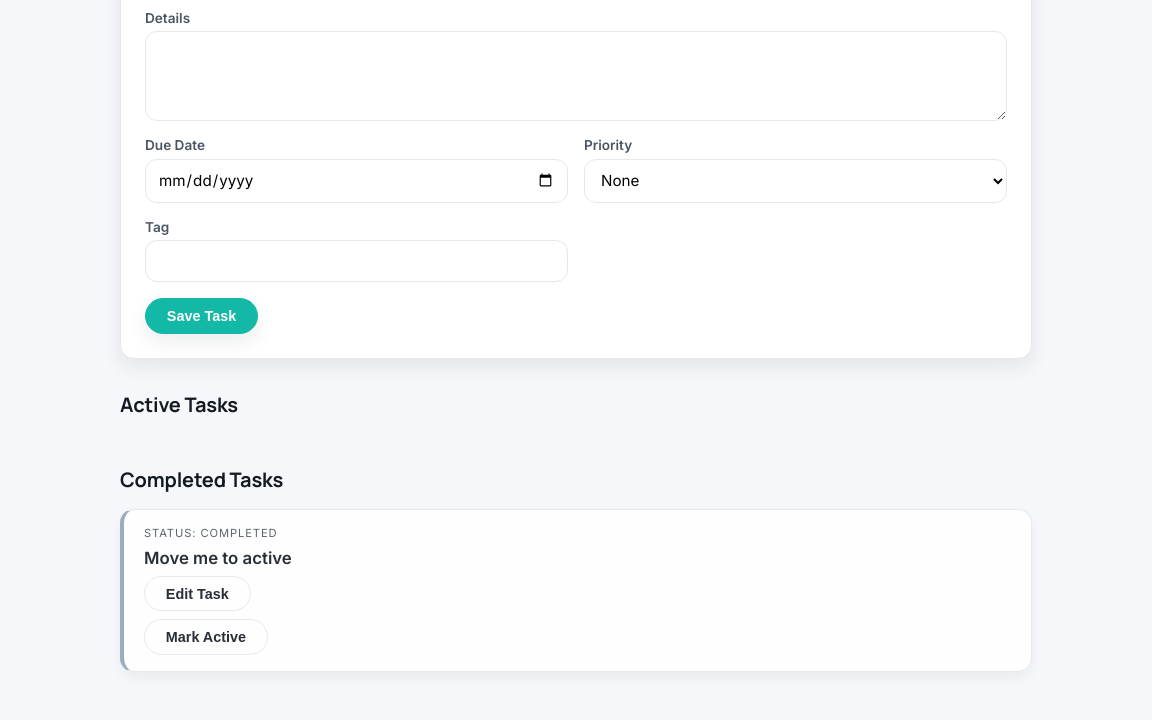
it: Task experience (US-001 + US-002 + US-003 + US-004) › reactivates a completed task and moves it back to active
(page scrolled)
Click the button "Mark Active".
click(206, 637)  # box x1=144 y1=619 x2=268 y2=655
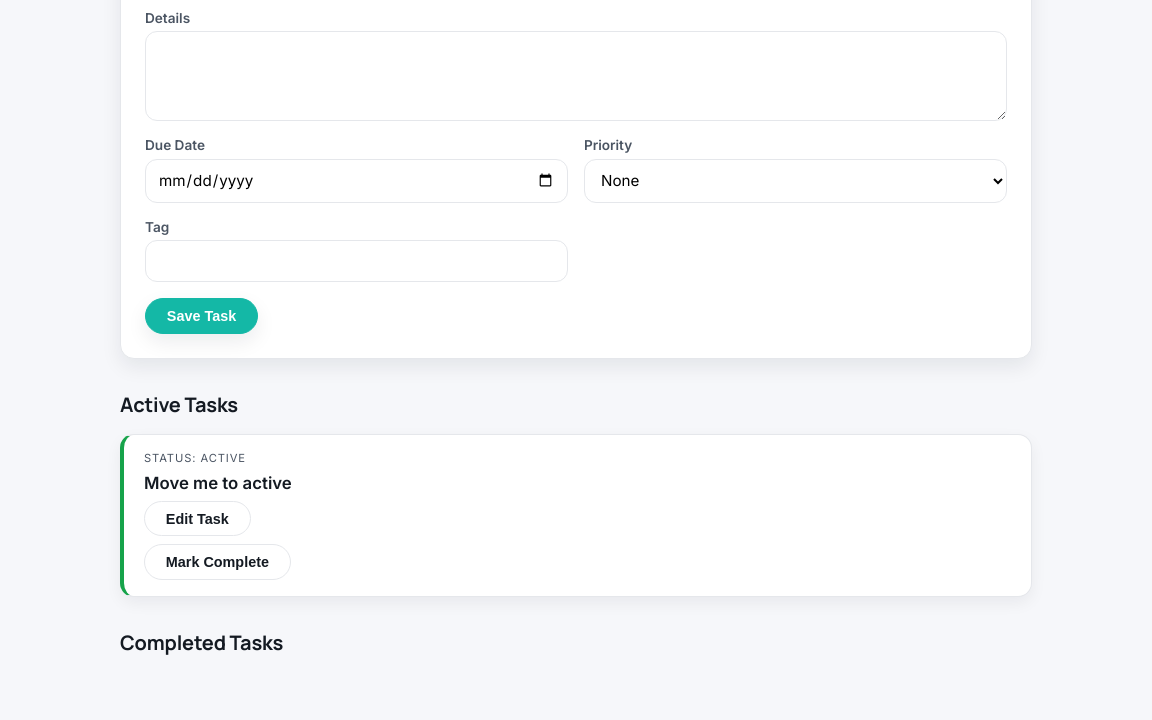
Check: the text "Move me to active" is shown, box x1=144 y1=473 x2=292 y2=493
Check: the text "Status: Active" is shown, box x1=144 y1=451 x2=246 y2=465
